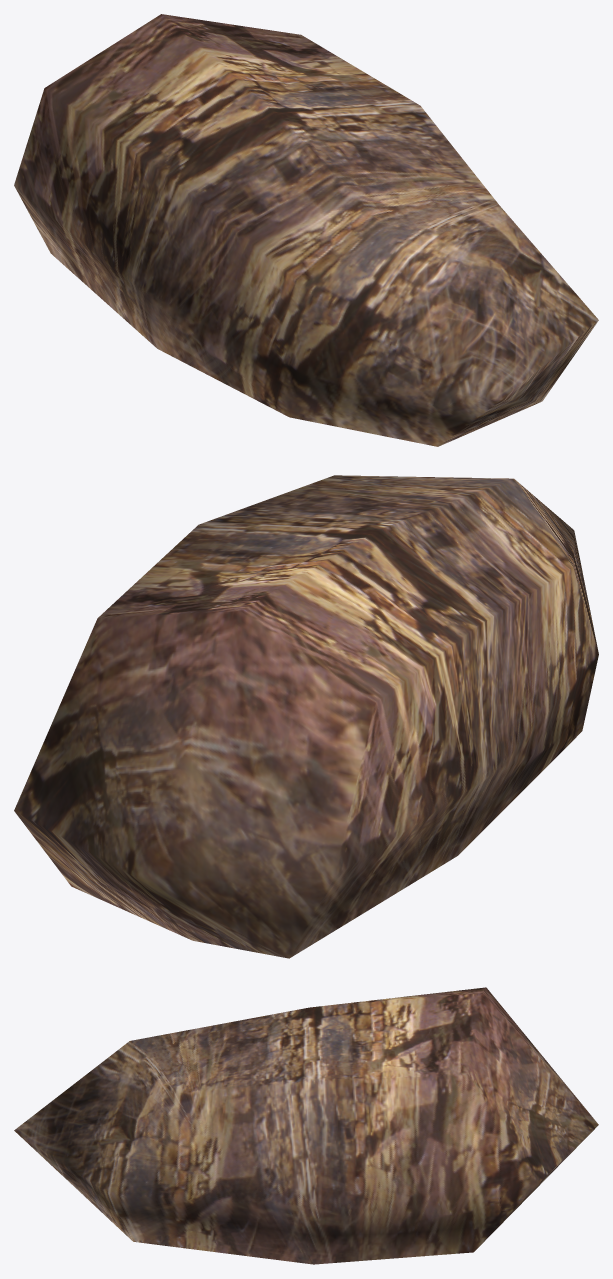
Rendered from small_rock_1.fbx.
The picture shows the model from 3 angles, top to bottom: view 1: azimuth 30°, elevation 25°; view 2: azimuth 150°, elevation 25°; view 3: azimuth 270°, elevation 25°; orthographic projection. The views are drawn at different scales.
Visible parts, largest first — view 1: cube1; view 2: cube1; view 3: cube1.
Boxes of the visible parts, <box> form: cube1: <box>14,14,598,446</box>; cube1: <box>14,475,598,958</box>; cube1: <box>14,987,598,1264</box>.
Size of the model in its own units: 103 by 80.03 by 204.
Materials: 1 (1 with a texture image).
